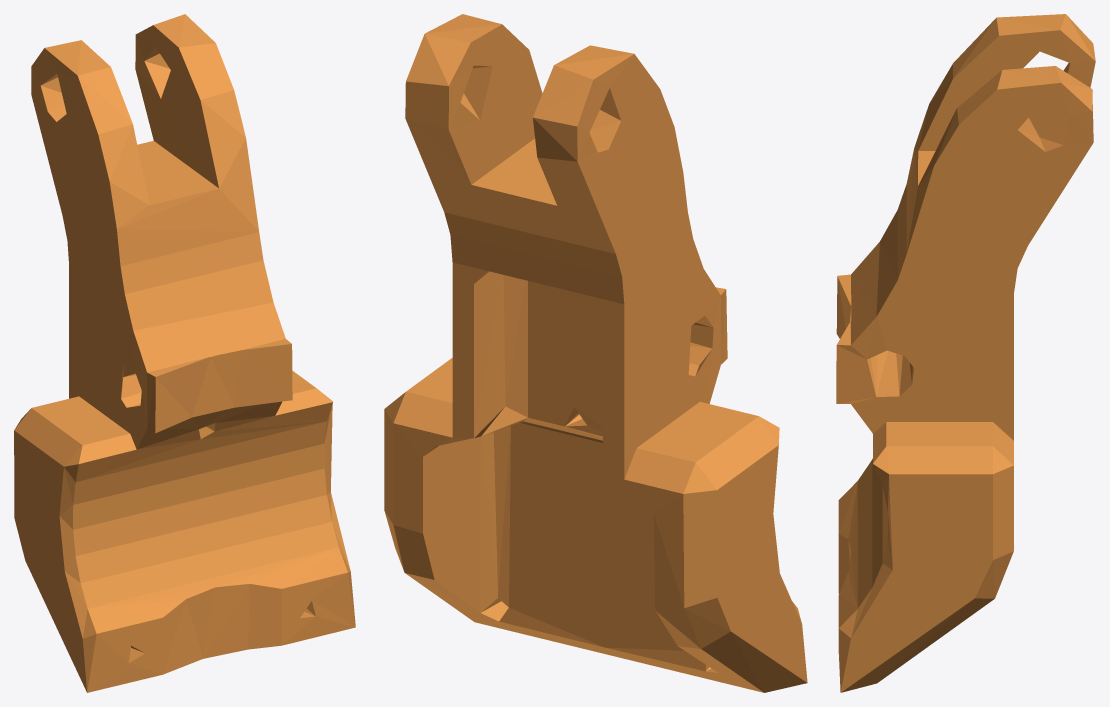
Rendered from fingertip.dae.
The picture shows the model from 3 angles, left to right: view 1: azimuth 30°, elevation 25°; view 2: azimuth 150°, elevation 25°; view 3: azimuth 270°, elevation 25°; orthographic projection. The views are drawn at different scales.
Visible parts, largest first — view 1: fingertip; view 2: fingertip; view 3: fingertip.
Boxes of the visible parts, bbox=[...] form: fingertip: bbox=[14, 14, 355, 692]; fingertip: bbox=[384, 14, 807, 692]; fingertip: bbox=[836, 14, 1095, 692].
Size of the model in its own units: 0.031 by 0.0248 by 0.0609.
